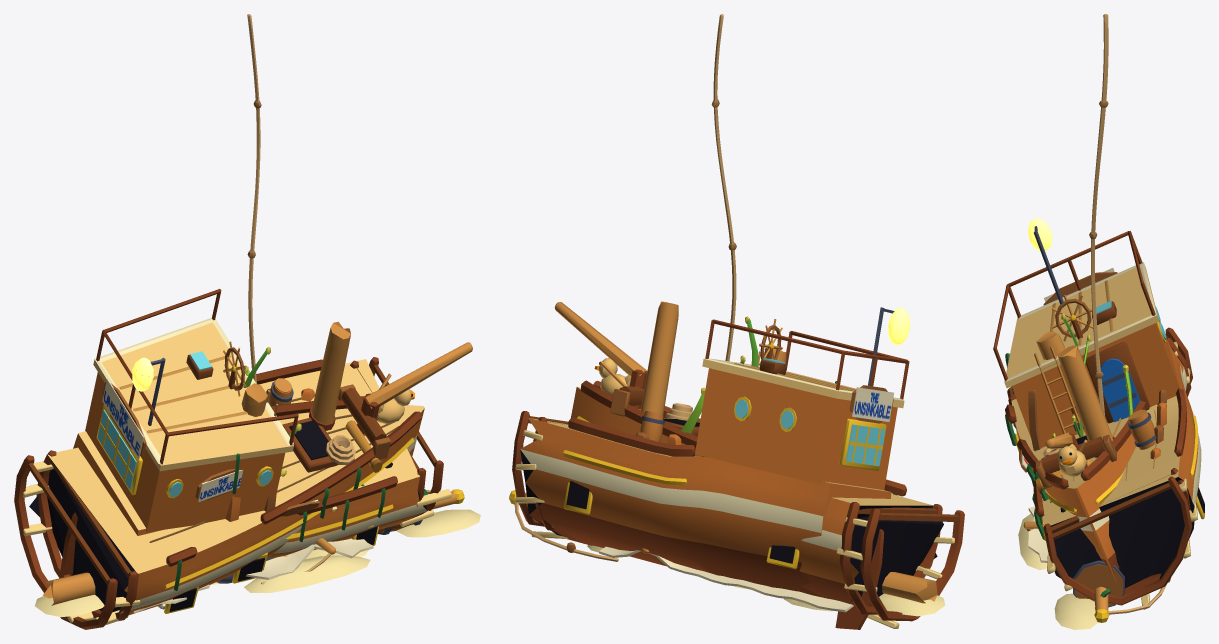
The model's file is sunken.glb.
3 views of the same model, side by side, from view 1: azimuth 30°, elevation 25°; view 2: azimuth 150°, elevation 25°; view 3: azimuth 270°, elevation 25° (orthographic). The views are drawn at different scales.
Parts seen in each view (by area): view 1: WreckStern, WreckBow, WreckMast, DiveRope, WreckRibs; view 2: WreckStern, WreckBow, WreckMast, DiveRope, KelpTall; view 3: WreckStern, WreckBow, WreckMast, DiveRope, WreckRibs, KelpTall.
Part boxes in pixels (box(x1,y1,x2,y2)): WreckStern: box(60, 288, 451, 580); WreckBow: box(14, 342, 472, 629); WreckMast: box(35, 489, 480, 617); DiveRope: box(247, 14, 261, 382); WreckRibs: box(210, 388, 373, 584); WreckStern: box(512, 301, 909, 629); WreckBow: box(554, 302, 964, 628); WreckMast: box(509, 490, 945, 616); DiveRope: box(711, 14, 736, 361); KelpTall: box(681, 316, 758, 433); WreckStern: box(993, 218, 1204, 609); WreckBow: box(1005, 327, 1192, 587); WreckMast: box(1023, 506, 1170, 629); DiveRope: box(1089, 14, 1108, 417); WreckRibs: box(1028, 390, 1166, 502); KelpTall: box(1052, 313, 1133, 438).
Size of the model in its own units: 10 by 12.48 by 4.5.
5 materials, 3 textured.
